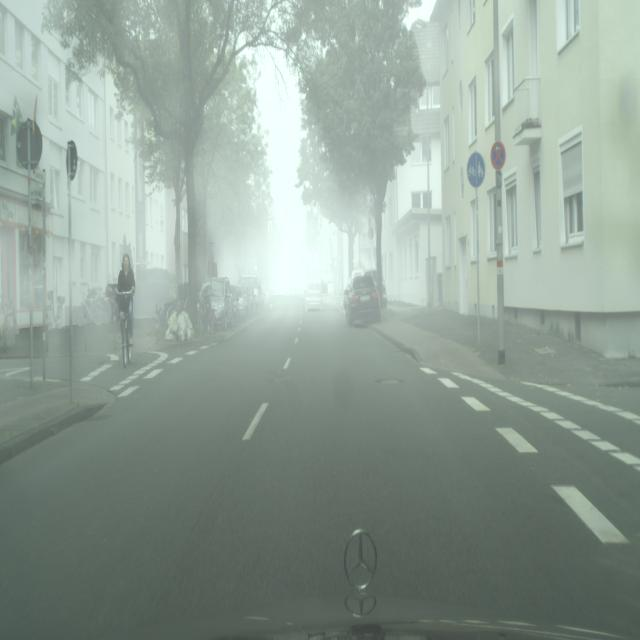bus: (343, 270, 382, 328), (198, 276, 236, 331), (241, 274, 261, 316), (368, 269, 387, 309), (231, 282, 247, 323), (304, 282, 322, 311), (236, 282, 249, 319), (262, 283, 272, 309)
car: (115, 258, 134, 368), (0, 293, 17, 351)
